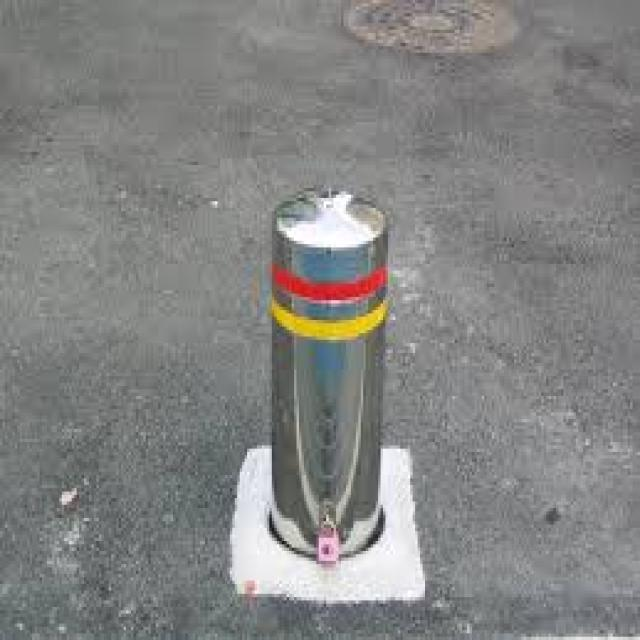bollard: (265, 182, 399, 592)
